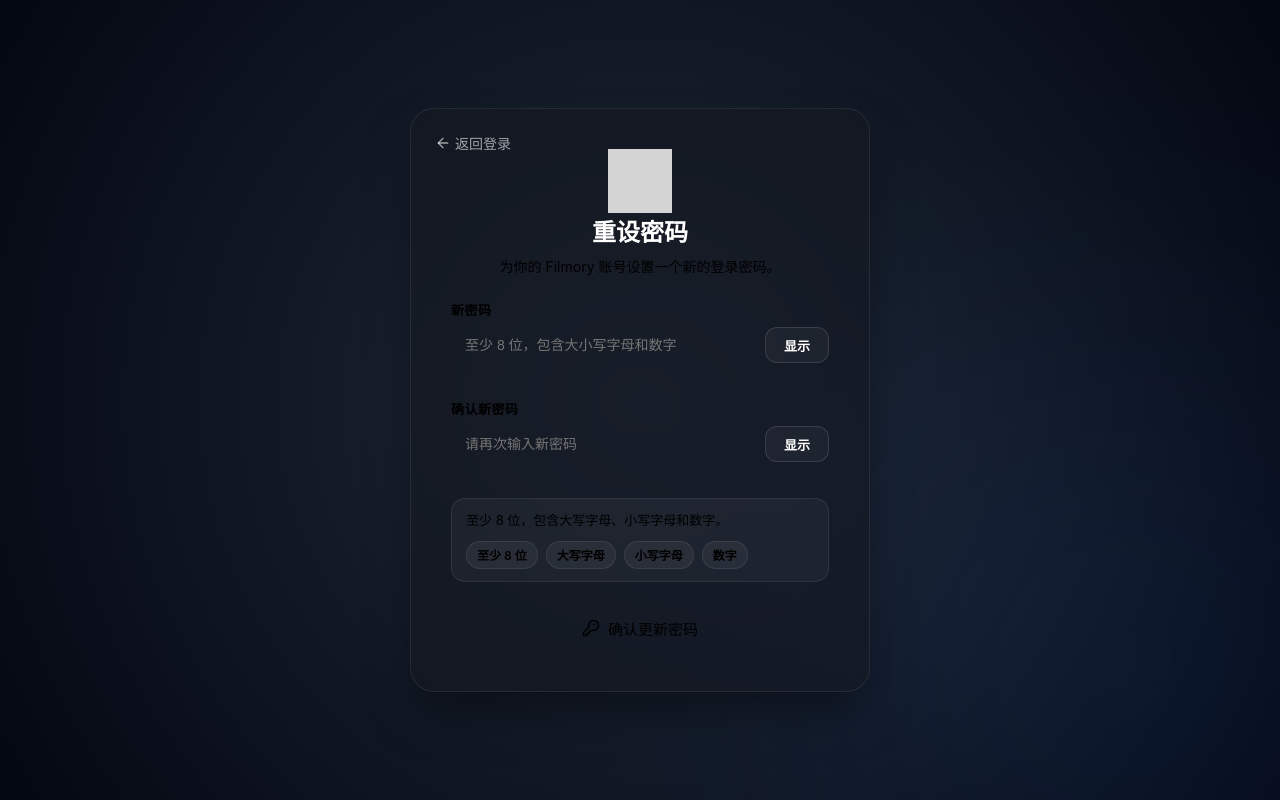
Test: Auth frontend closure › reset password rejects weak password before updateUser
The width and height of the screenshot is (1280, 800).
Type "weakpass" into the password field labelled "新密码" at [603, 345], box [451,327,755,363]
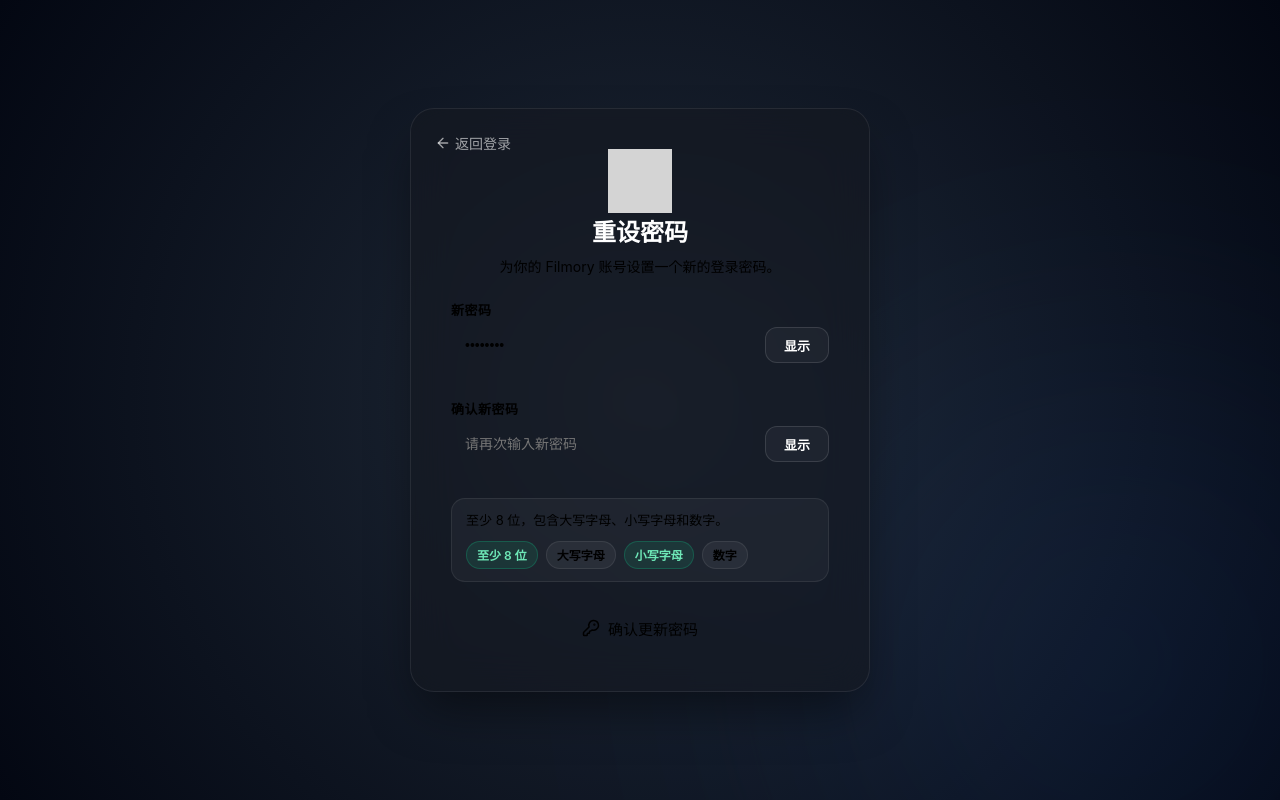
Type "weakpass" into the password field labelled "确认新密码" at [603, 444], box [451,426,755,462]
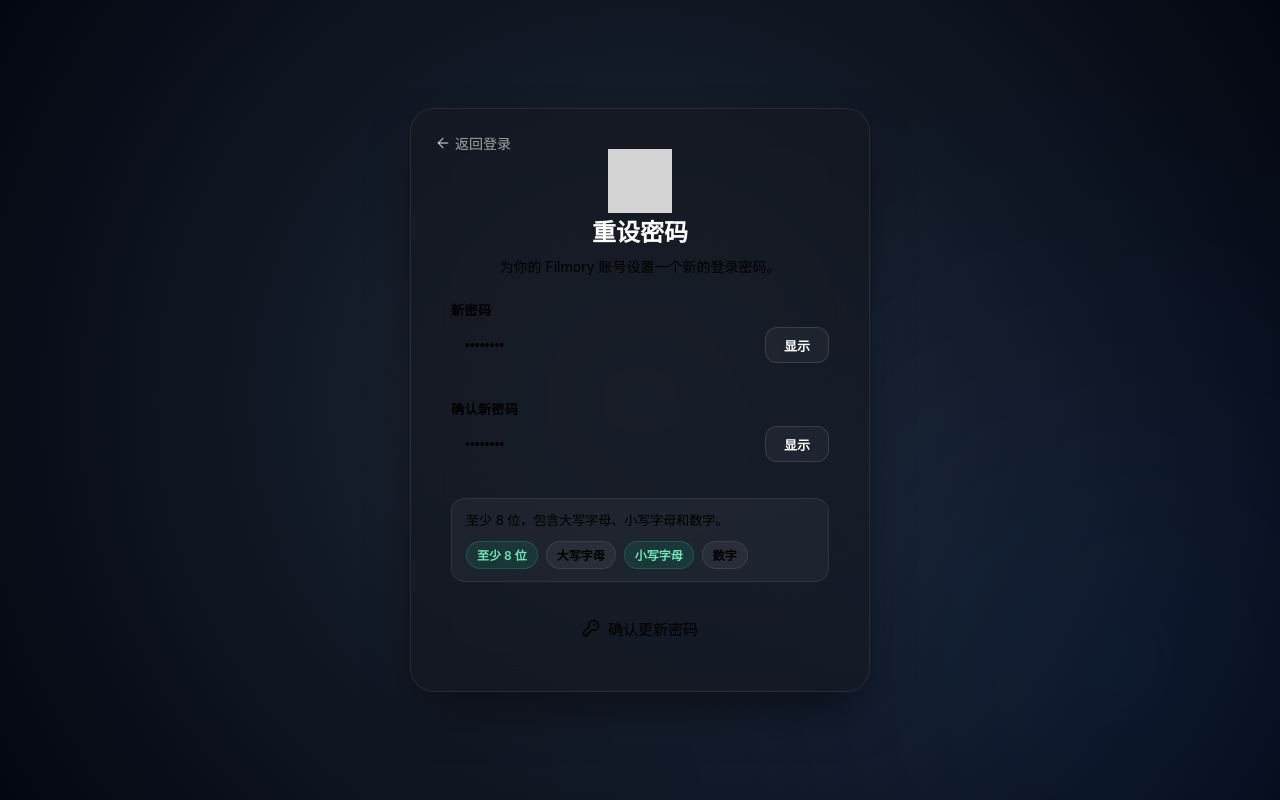
Click the button "确认更新密码" at [640, 628], box [451,606,829,651]
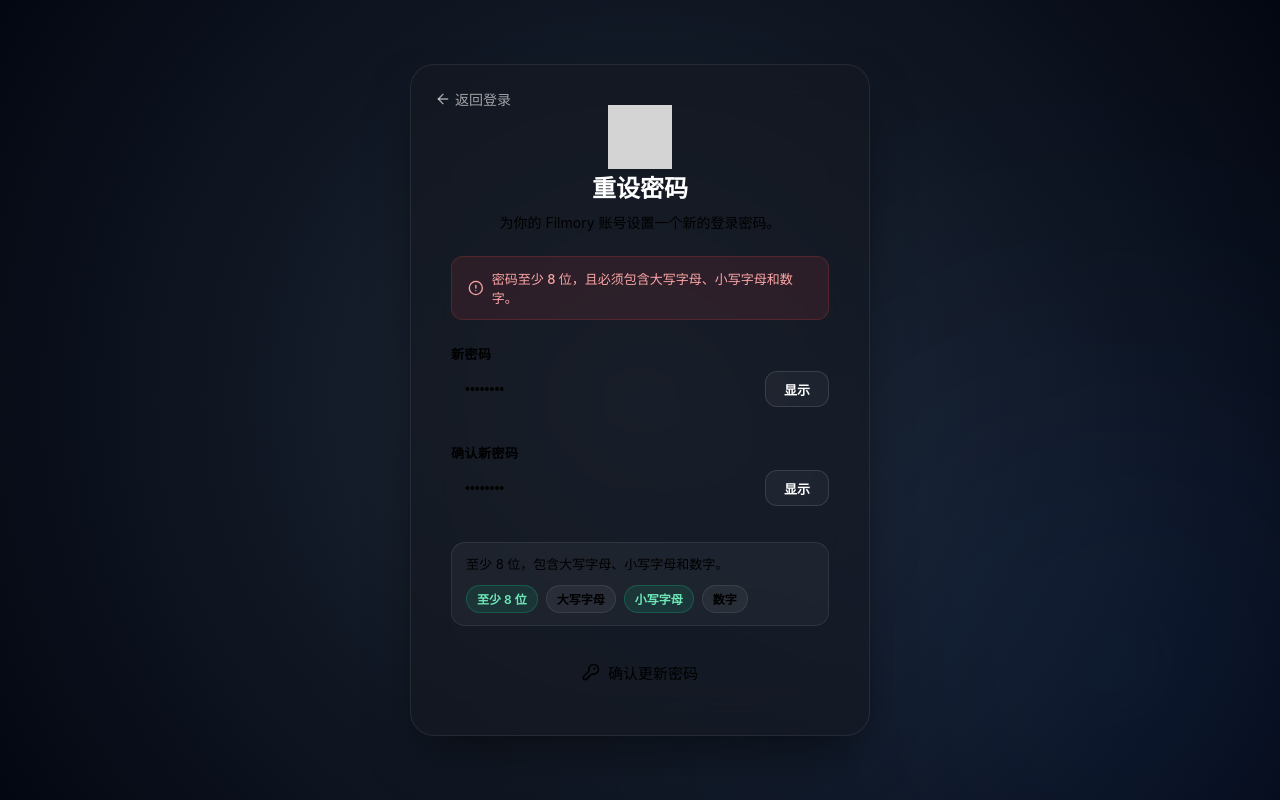
Now the text "密码至少 8 位，且必须包含大写字母、小写字母和数字。" is shown, box [492,269,812,307]
